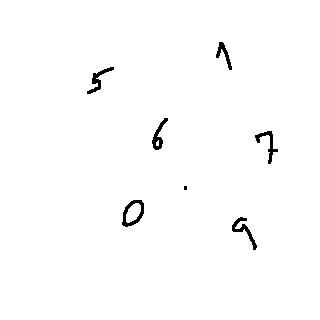.: (176, 178, 202, 200)
0: (103, 194, 158, 238)
1: (209, 27, 245, 81)
5: (80, 60, 124, 107)
6: (149, 110, 178, 163)
7: (251, 126, 294, 173)
9: (226, 205, 268, 262)
